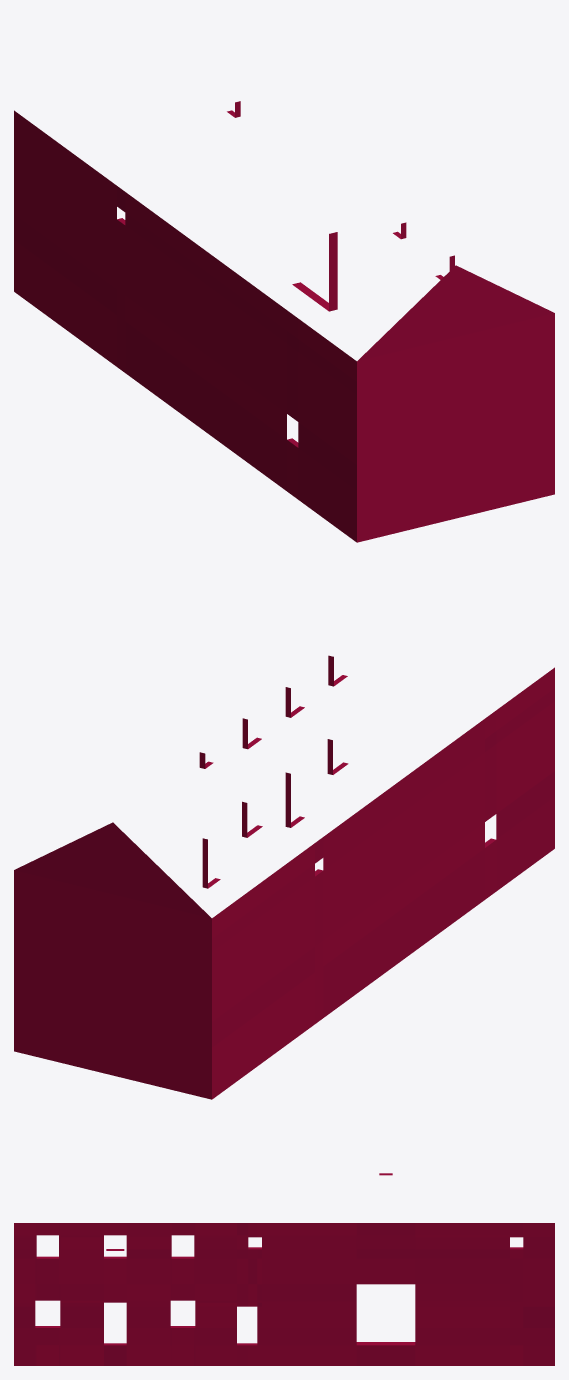
The model's file is SM_Bld_039_Masonry.glb.
3 renders of one model, top to bottom at view 1: azimuth 30°, elevation 25°; view 2: azimuth 150°, elevation 25°; view 3: azimuth 270°, elevation 25°, orthographic. The views are drawn at different scales.
Parts seen in each view (by area): view 1: SM_Bld_039_Masonry; view 2: SM_Bld_039_Masonry; view 3: SM_Bld_039_Masonry.
Part boxes in pixels (left/top/right/bottom): SM_Bld_039_Masonry: left=14, top=101, right=554, bottom=542; SM_Bld_039_Masonry: left=14, top=655, right=554, bottom=1099; SM_Bld_039_Masonry: left=14, top=1173, right=554, bottom=1365.
Bounding box in the file's own units: 8 × 9.78 × 24.
